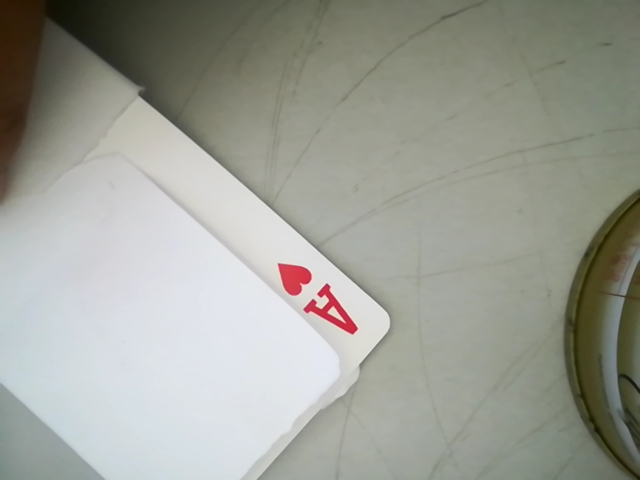hx a: (255, 256, 369, 347)
